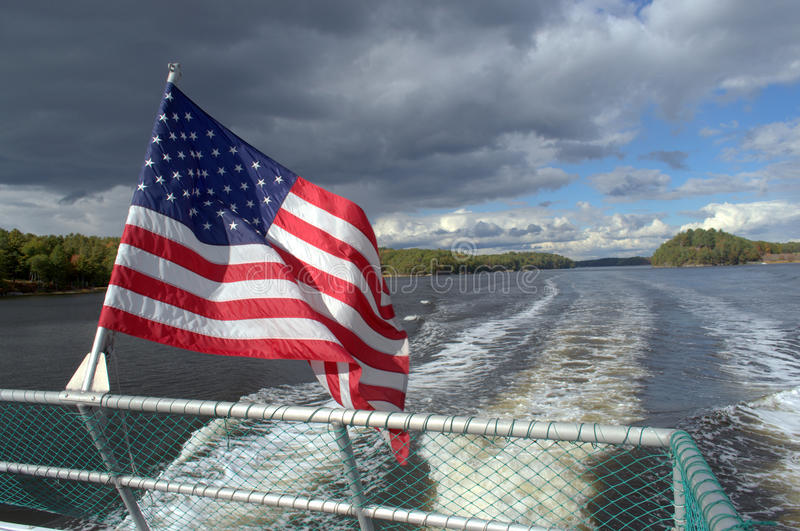America flag: (101, 78, 424, 470)
